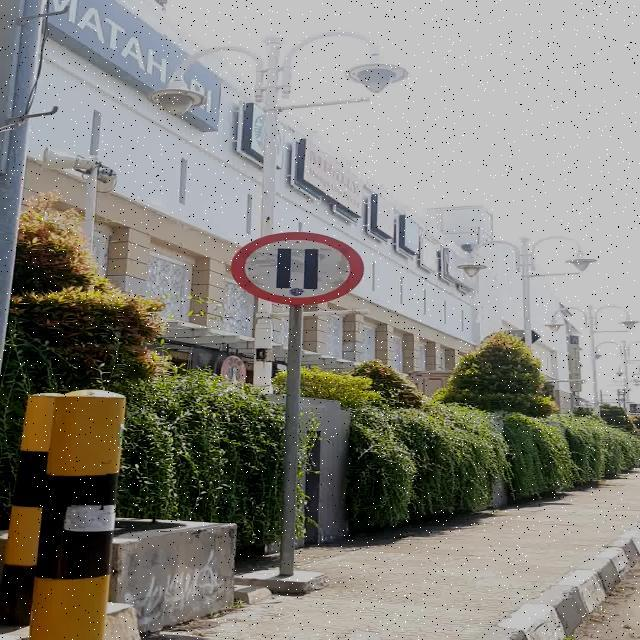Larangan Muatan - 10 ton: (232, 232, 364, 304)
